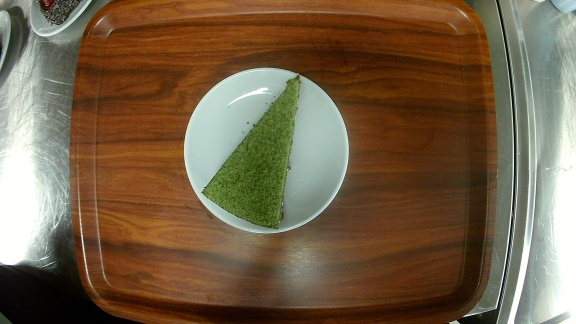fistiklipasta: (183, 67, 352, 233)
